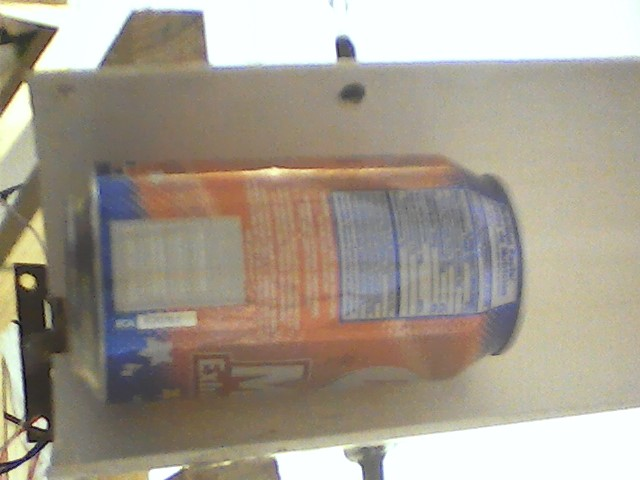lata: (62, 151, 532, 410)
